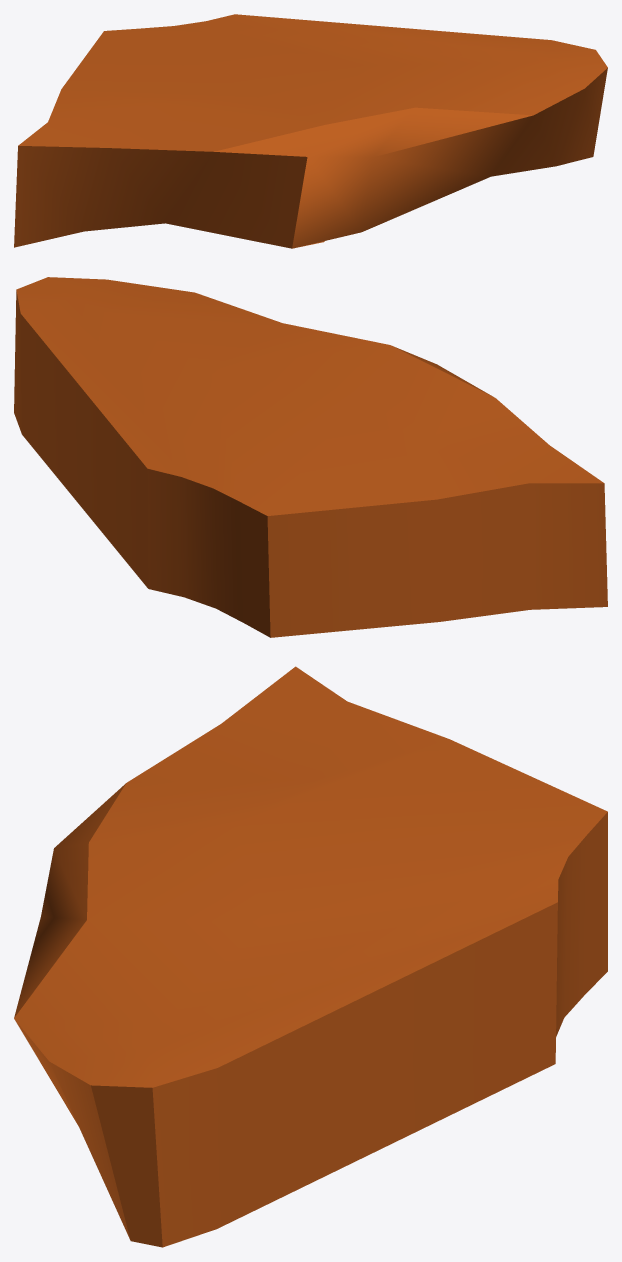
3 views of the same model, one above another, from view 1: azimuth 30°, elevation 25°; view 2: azimuth 150°, elevation 25°; view 3: azimuth 270°, elevation 25° (orthographic). The views are drawn at different scales.
Visible parts, largest first — view 1: Cube.004__0; view 2: Cube.004__0; view 3: Cube.004__0.
Part boxes in pixels (x1,y1,x2,y2): Cube.004__0: (14, 14, 607, 248); Cube.004__0: (14, 277, 607, 637); Cube.004__0: (14, 666, 607, 1247).
Bounding box in the file's own units: 274 × 53.8 × 163.
1 material, 1 textured.
